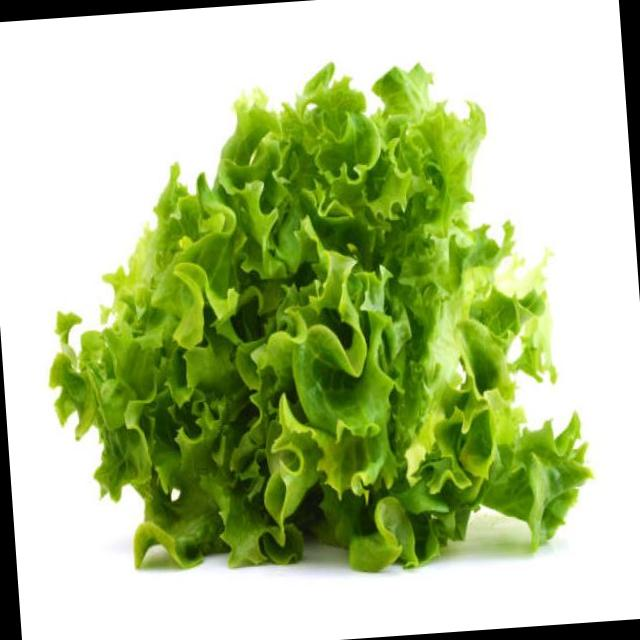Lettuce-Ready-to-Harvest: (45, 62, 595, 574)
